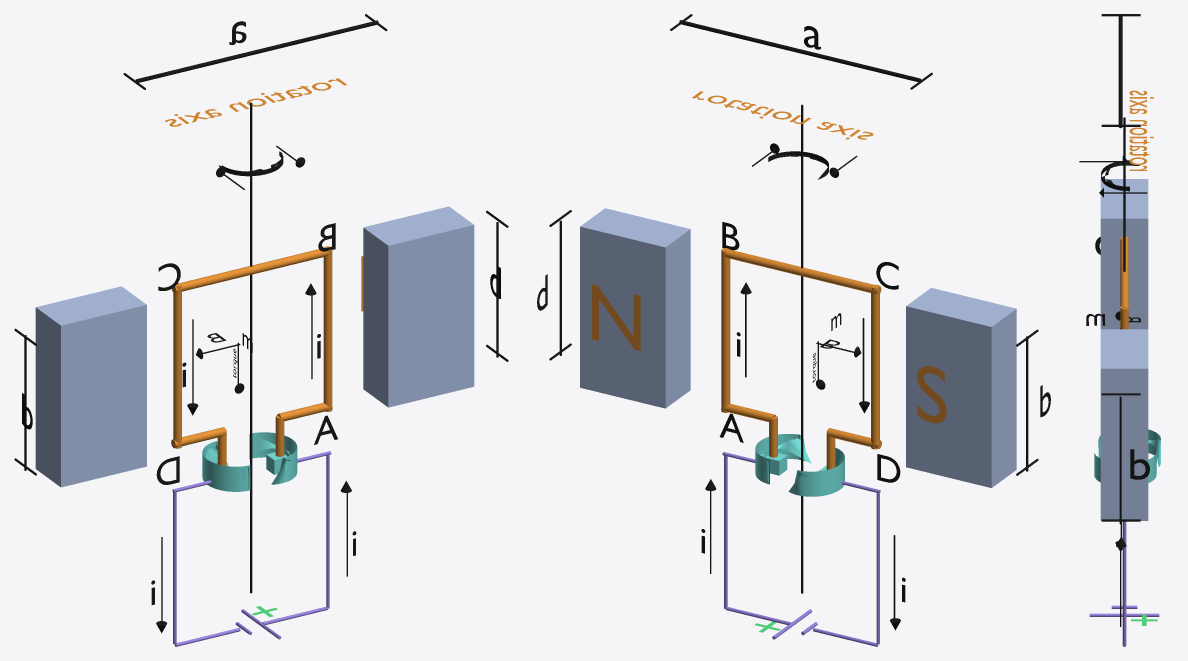
The model's file is animation.glb.
3 renders of one model, left to right at view 1: azimuth 30°, elevation 25°; view 2: azimuth 150°, elevation 25°; view 3: azimuth 270°, elevation 25°, orthographic. The views are drawn at different scales.
Parts seen in each view (by area): view 1: Cube.001, Cube, Cylinder.018, Cylinder.023, Cylinder.024, Text.006; view 2: Cube, Cube.001, Cylinder.018, Cylinder.023, Text.002, Cylinder.024, Text.006, Text.003; view 3: Cube.001, Cube, Cylinder.018, Text.006, Cylinder.024, Cylinder.023, Cylinder.020, Cylinder.034, Text.005.
Part boxes in pixels (x1,y1,x2,y2): Cube.001: (363, 206, 474, 407); Cube: (35, 286, 146, 487); Cylinder.018: (171, 246, 332, 646); Cylinder.023: (250, 102, 252, 593); Cylinder.024: (135, 20, 378, 82); Text.006: (165, 78, 346, 126); Cube: (906, 287, 1016, 487); Cube.001: (580, 208, 690, 408); Cylinder.018: (721, 248, 881, 646); Cylinder.023: (801, 104, 803, 593); Text.002: (592, 284, 640, 350); Cylinder.024: (679, 20, 921, 81); Text.006: (692, 91, 873, 139); Text.003: (917, 366, 946, 423); Cube.001: (1100, 329, 1148, 520); Cube: (1100, 179, 1148, 329); Cylinder.018: (1089, 236, 1160, 646); Text.006: (1129, 90, 1153, 170); Cylinder.024: (1118, 14, 1122, 128); Cylinder.023: (1123, 117, 1125, 271); Cylinder.020: (1119, 396, 1121, 524); Cylinder.034: (1101, 160, 1140, 191); Text.005: (1130, 449, 1149, 479).
Bounding box in the file's own units: 6.3 × 7.52 × 1.12.
